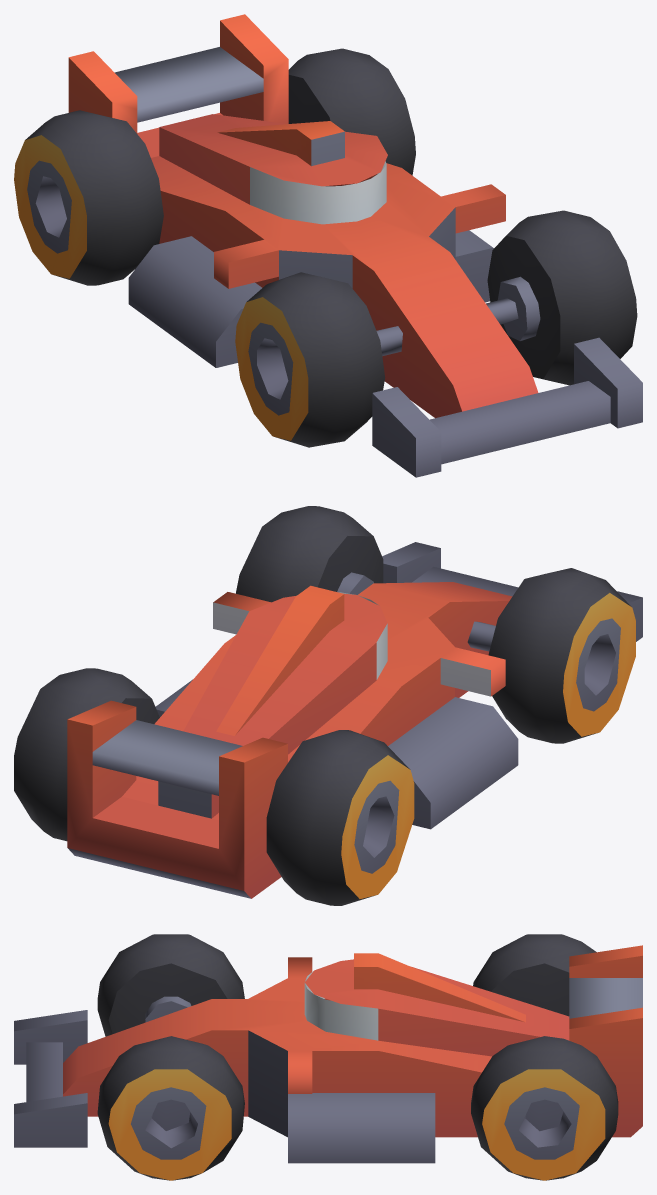
File: cc0-race-lod1.glb
The picture shows the model from 3 angles, top to bottom: view 1: azimuth 30°, elevation 25°; view 2: azimuth 150°, elevation 25°; view 3: azimuth 270°, elevation 25°; orthographic projection. The views are drawn at different scales.
Visible parts, largest first — view 1: part_0; view 2: part_0; view 3: part_0.
Part boxes in pixels (x1,y1,x2,y2): part_0: (14,14,642,477); part_0: (14,506,642,905); part_0: (14,934,642,1180).
Size of the model in its own units: 1.3 by 0.7325 by 2.56.
1 material, 1 textured.
